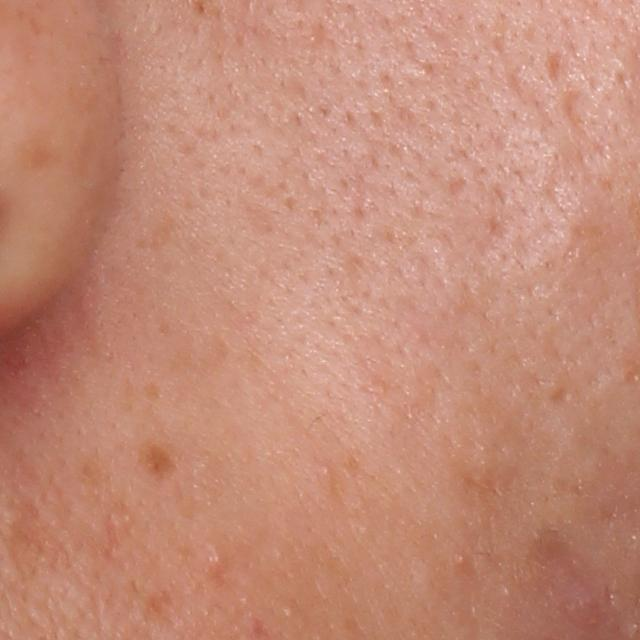atrophic_scar: (562, 92, 597, 143), (545, 48, 569, 83), (545, 385, 572, 405)
comedo: (203, 544, 228, 575), (452, 547, 471, 571)
melasma: (136, 444, 182, 479)
